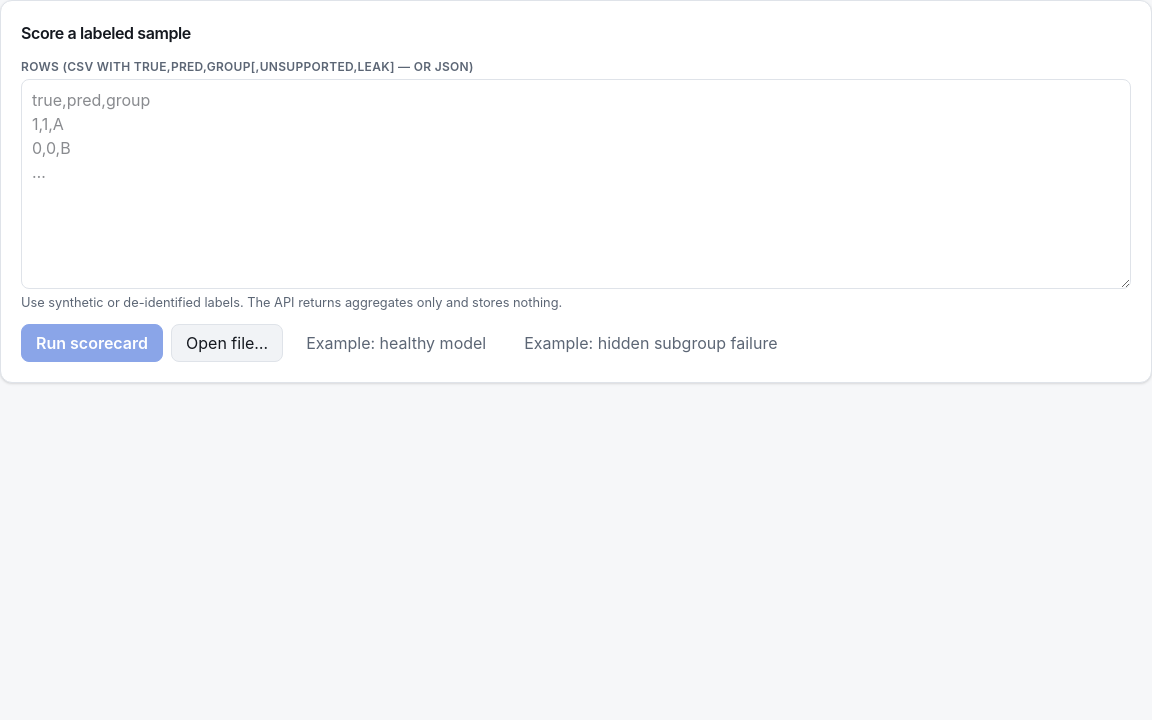
it: Quality view › explains a hidden subgroup failure in plain language
What coordinates should you click on to do the following:
click the button "Example: hidden subgroup failure"
I would click on:
 (651, 343)
Its box is [509, 324, 792, 362].
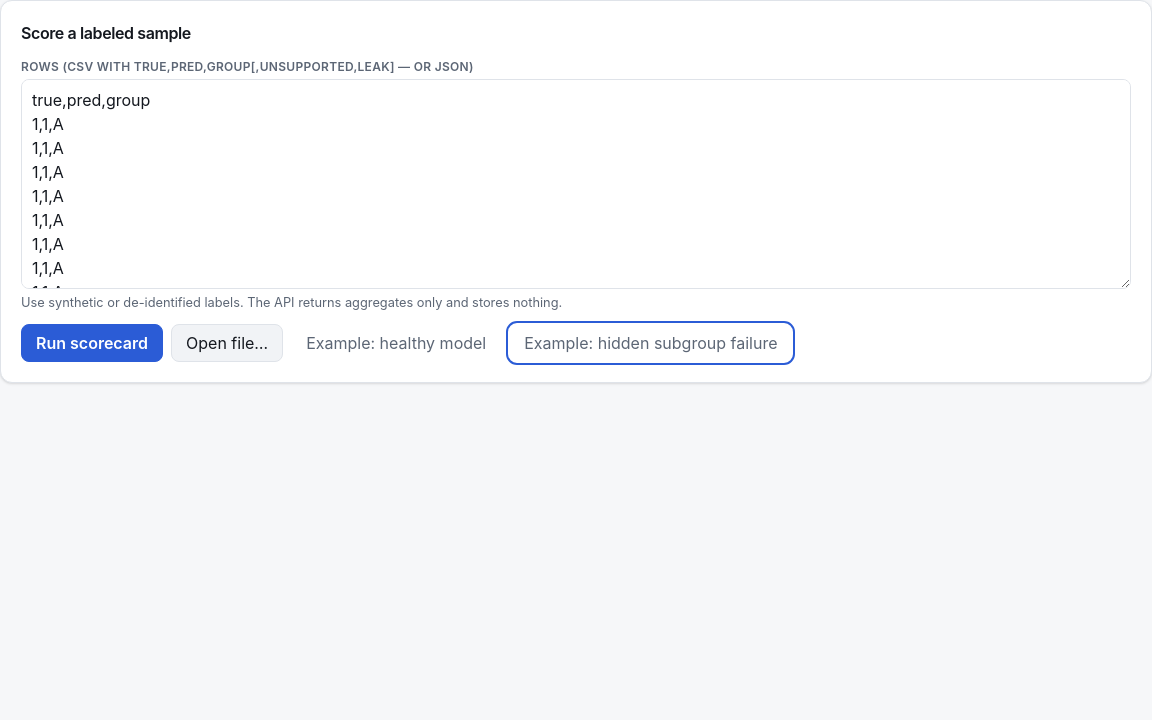
What coordinates should you click on to do the following:
click the button "Run scorecard"
I would click on:
 (92, 343)
Its box is [21, 324, 163, 362].
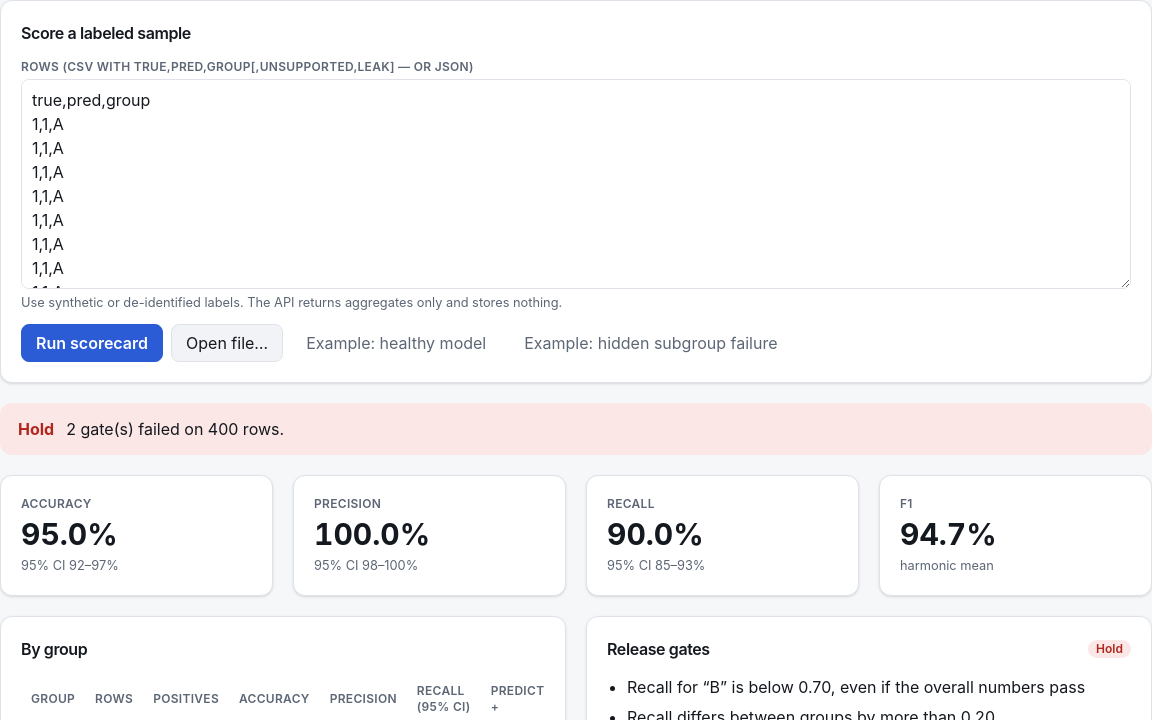
Expected: the list item "Recall for “B” is below 0.70" is shown, [627, 677, 1085, 697]
Expected: the message shows "Hold", [18, 419, 54, 439]
